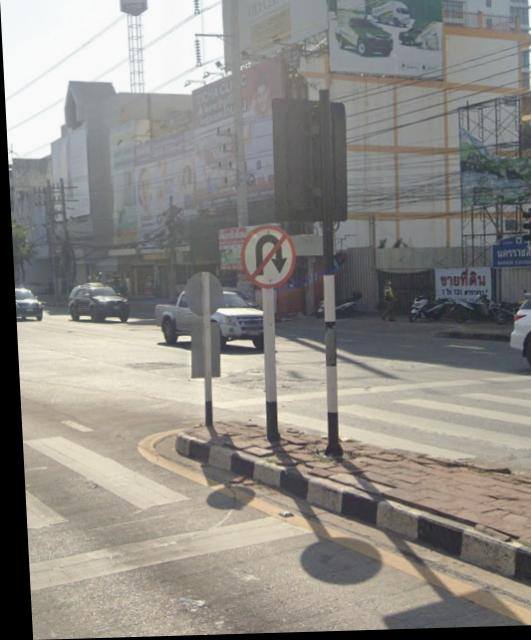not_u_turn_right: (234, 220, 302, 292)
